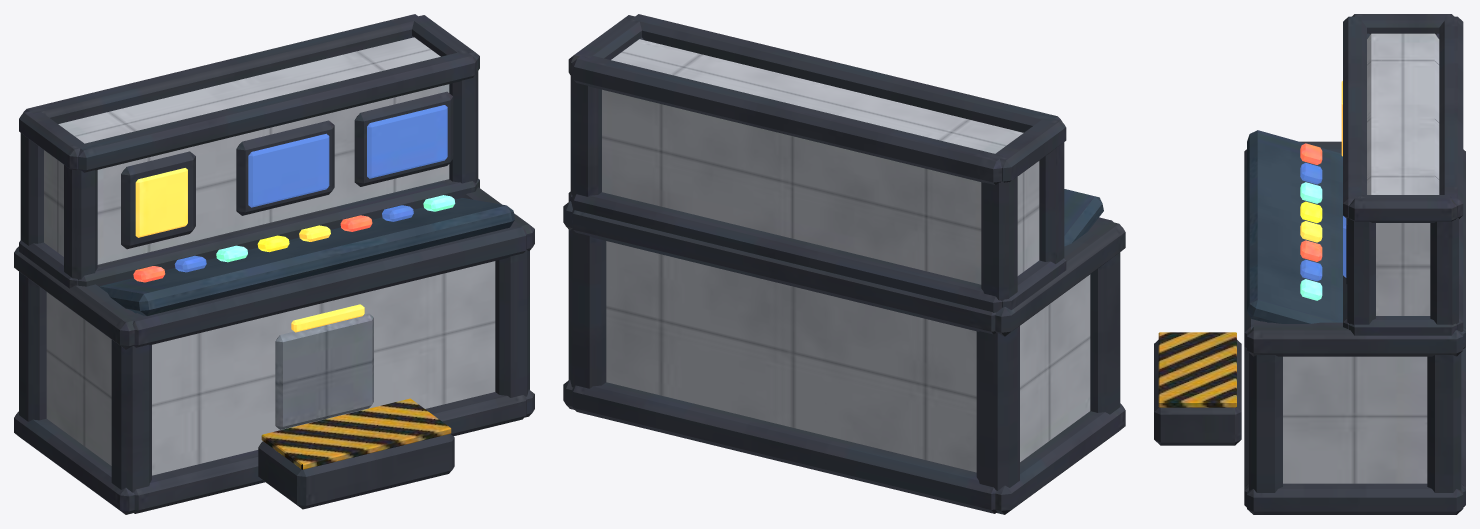
The model's file is command-console.glb.
3 renders of one model, left to right at view 1: azimuth 30°, elevation 25°; view 2: azimuth 150°, elevation 25°; view 3: azimuth 270°, elevation 25°, orthographic. The views are drawn at different scales.
Visible parts, largest first — view 1: BaseFrame, BaseBody, HoodFrame, HoodBody, Deck, ServiceDoor, KidStep, KidStepTread, Screen1, Screen2, StatusWindowFrame, StatusWindowPane (+3 smaller); view 2: BaseBody, HoodBody, BaseFrame, HoodFrame, Deck; view 3: BaseFrame, HoodFrame, BaseBody, HoodBody, Deck, KidStepTread, KidStep, Button16, Button17, Button11, Button12, Button13 (+3 smaller).
Boxes of the visible parts, box(x1,y1,x2,y2) form: BaseFrame: box(14, 187, 534, 514); BaseBody: box(46, 261, 495, 475); HoodFrame: box(19, 14, 479, 288); HoodBody: box(44, 37, 449, 264); Deck: box(99, 198, 514, 315); ServiceDoor: box(275, 313, 373, 429); KidStep: box(258, 434, 454, 509); KidStepTread: box(261, 398, 451, 469); Screen1: box(248, 133, 329, 207); Screen2: box(367, 105, 447, 178); StatusWindowFrame: box(121, 151, 195, 249); StatusWindowPane: box(135, 168, 187, 237); BaseBody: box(606, 241, 1090, 472); HoodBody: box(602, 39, 1039, 284); BaseFrame: box(563, 201, 1125, 514); HoodFrame: box(568, 14, 1066, 312); Deck: box(1064, 189, 1103, 246); BaseFrame: box(1244, 141, 1465, 514); HoodFrame: box(1343, 14, 1463, 335); BaseBody: box(1283, 356, 1427, 483); HoodBody: box(1367, 33, 1439, 315); Deck: box(1247, 130, 1342, 323); KidStepTread: box(1158, 332, 1236, 407); KidStep: box(1154, 340, 1241, 445); Button16: box(1300, 259, 1322, 281); Button17: box(1300, 279, 1322, 300); Button11: box(1300, 162, 1322, 184); Button12: box(1300, 182, 1322, 203); Button13: box(1300, 201, 1322, 223).
Size of the model in its own units: 2.1 by 1.58 by 1.43.
11 materials, 11 textured.
